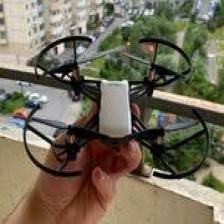drone: (57, 51, 177, 165)
